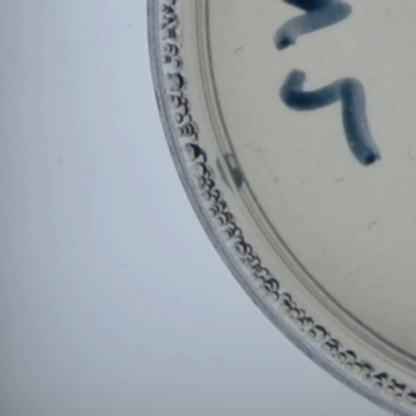worm: (238, 140, 266, 159), (232, 44, 251, 59), (331, 176, 351, 188), (402, 146, 416, 162), (366, 218, 381, 232), (296, 179, 312, 192)
